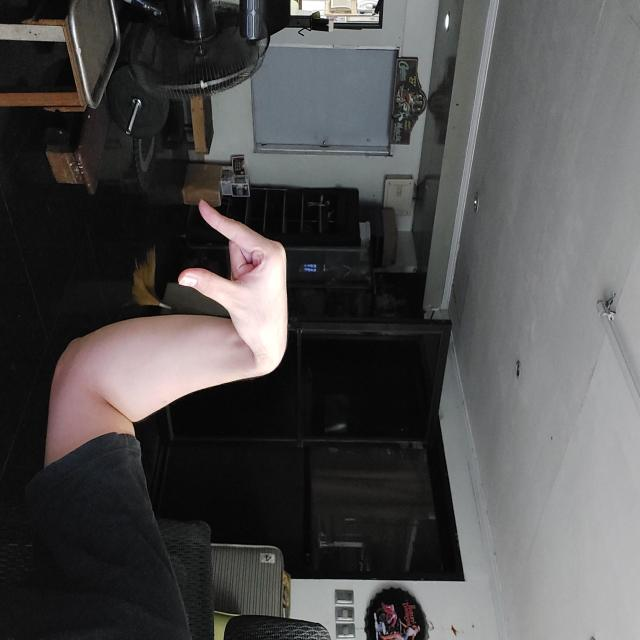Q: (198, 352, 374, 462)
